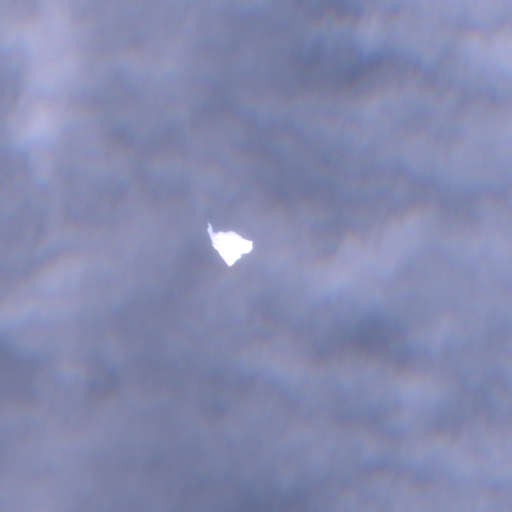Iceberg: (207, 222, 253, 266)
